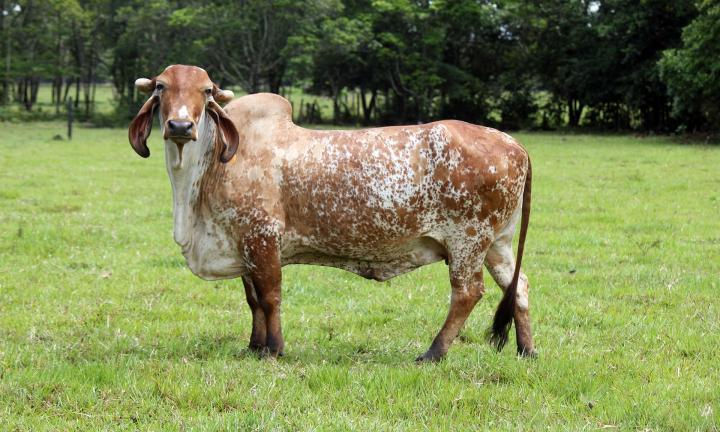Brahman: (129, 65, 536, 360)
